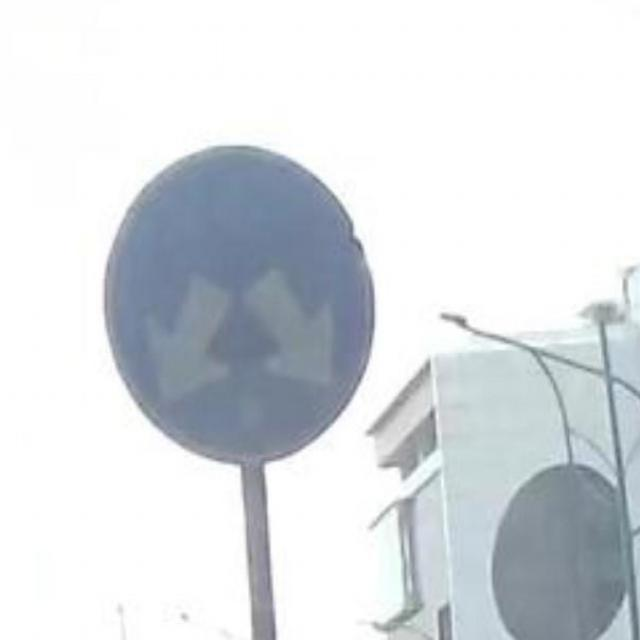traffic sign: (105, 147, 373, 460)
